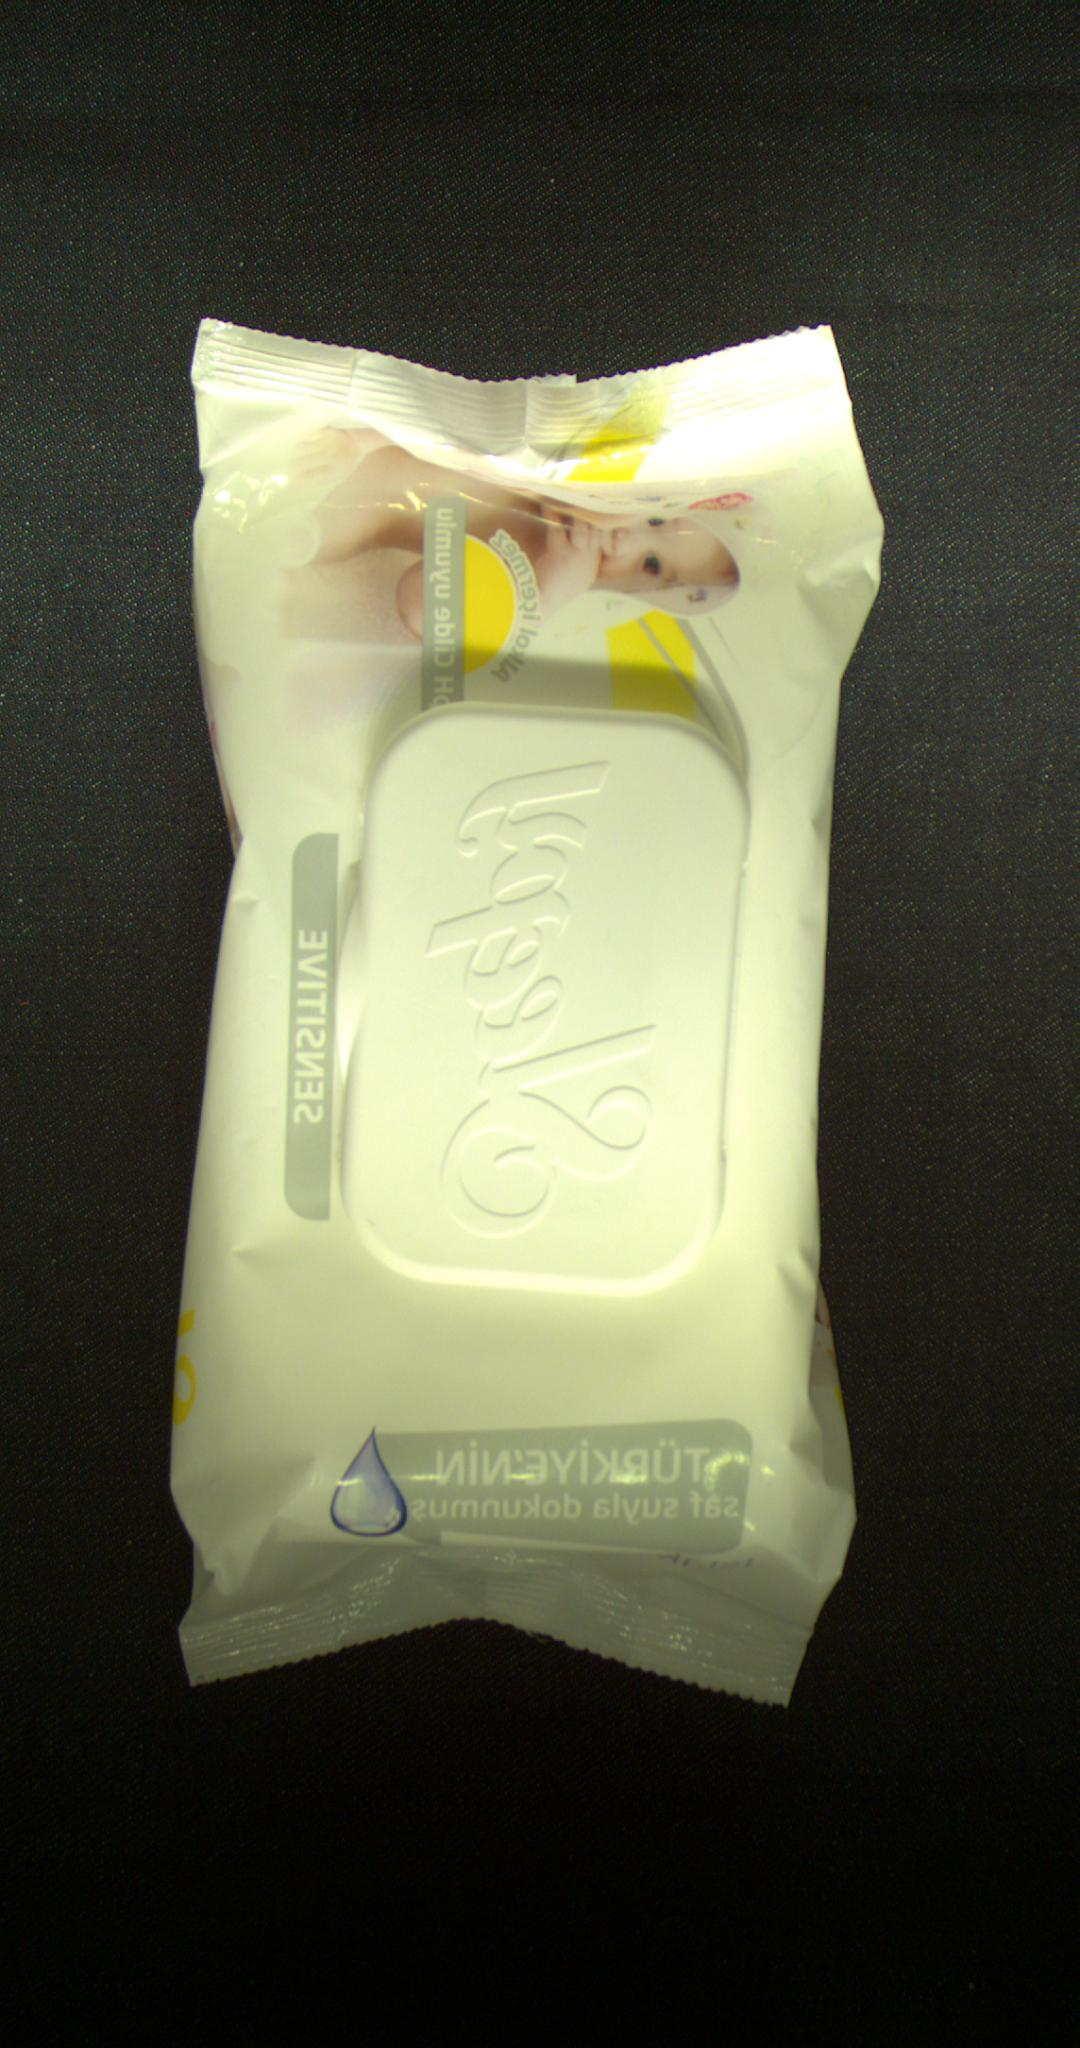kapak: (332, 703, 753, 1287)
